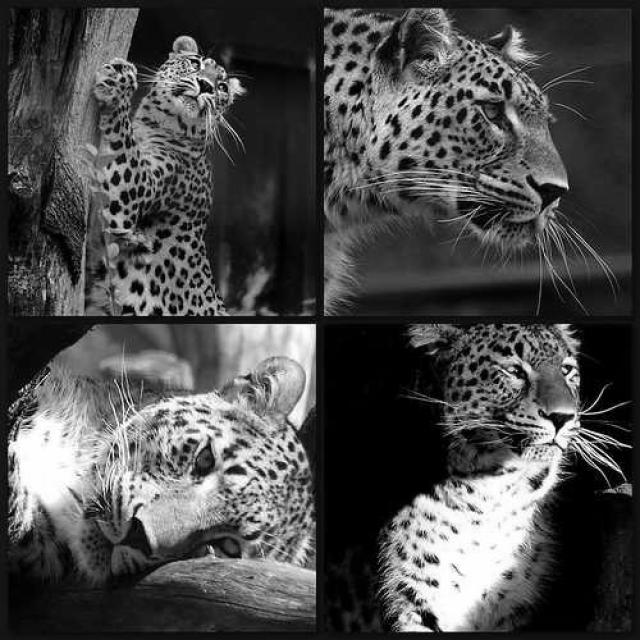Leopard: (321, 5, 621, 316), (374, 320, 632, 632), (5, 353, 315, 590), (81, 33, 248, 316)
